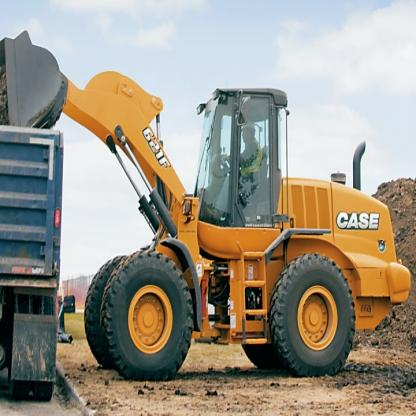bull_dozer/loader/grader: (3, 22, 415, 415)
